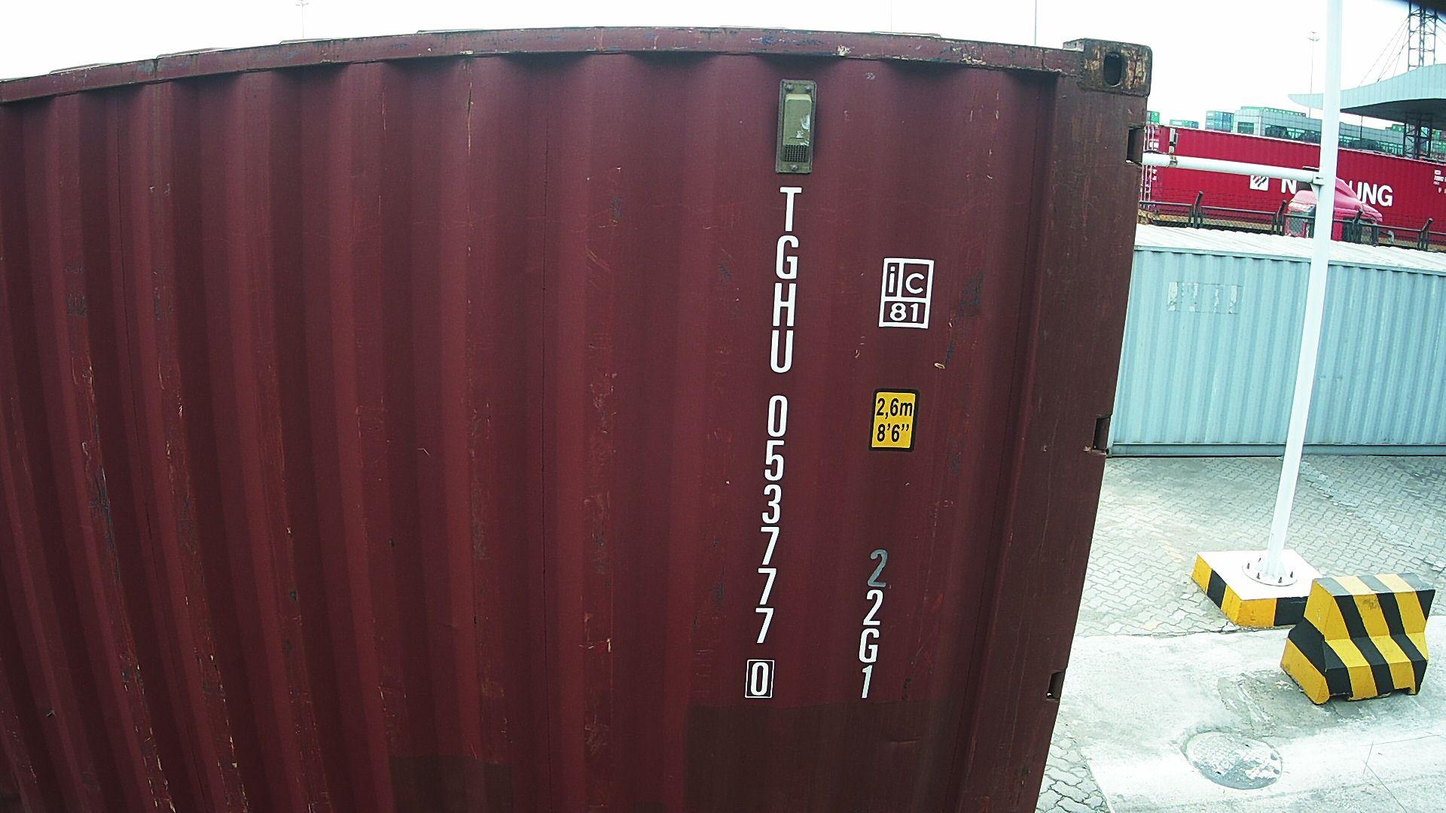container-numbers: (740, 179, 807, 707), (851, 544, 890, 706)
